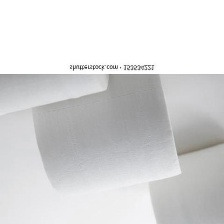tissue: (25, 74, 187, 207), (140, 138, 224, 224), (0, 73, 114, 123)
